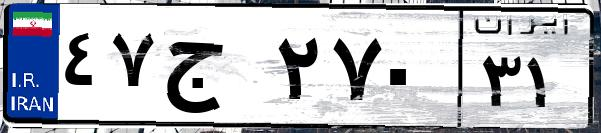0: (385, 28, 445, 110)
1: (525, 38, 570, 115)
2: (270, 28, 330, 110)
3: (475, 38, 525, 113)
4: (57, 26, 110, 100)
7: (330, 28, 385, 110), (110, 28, 158, 98)
ج: (158, 20, 270, 120)
